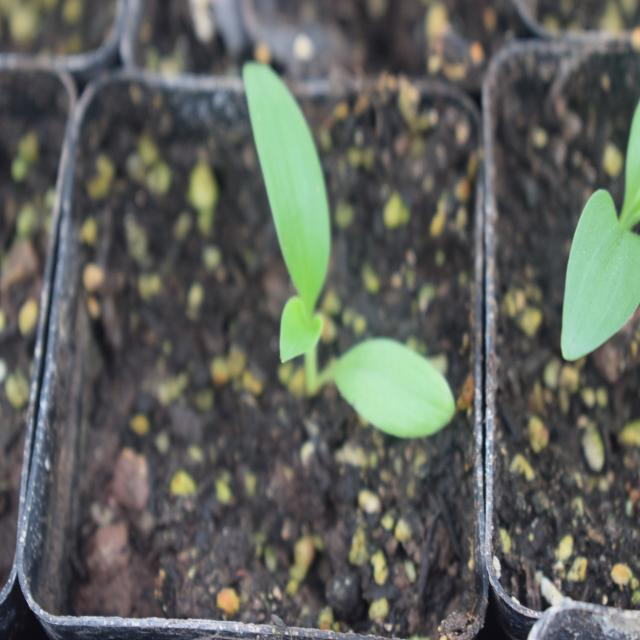Common Dayflower: (239, 41, 441, 452)
